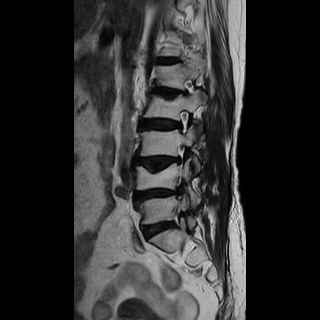RFS0: (173, 103, 195, 138), (177, 74, 198, 101)
